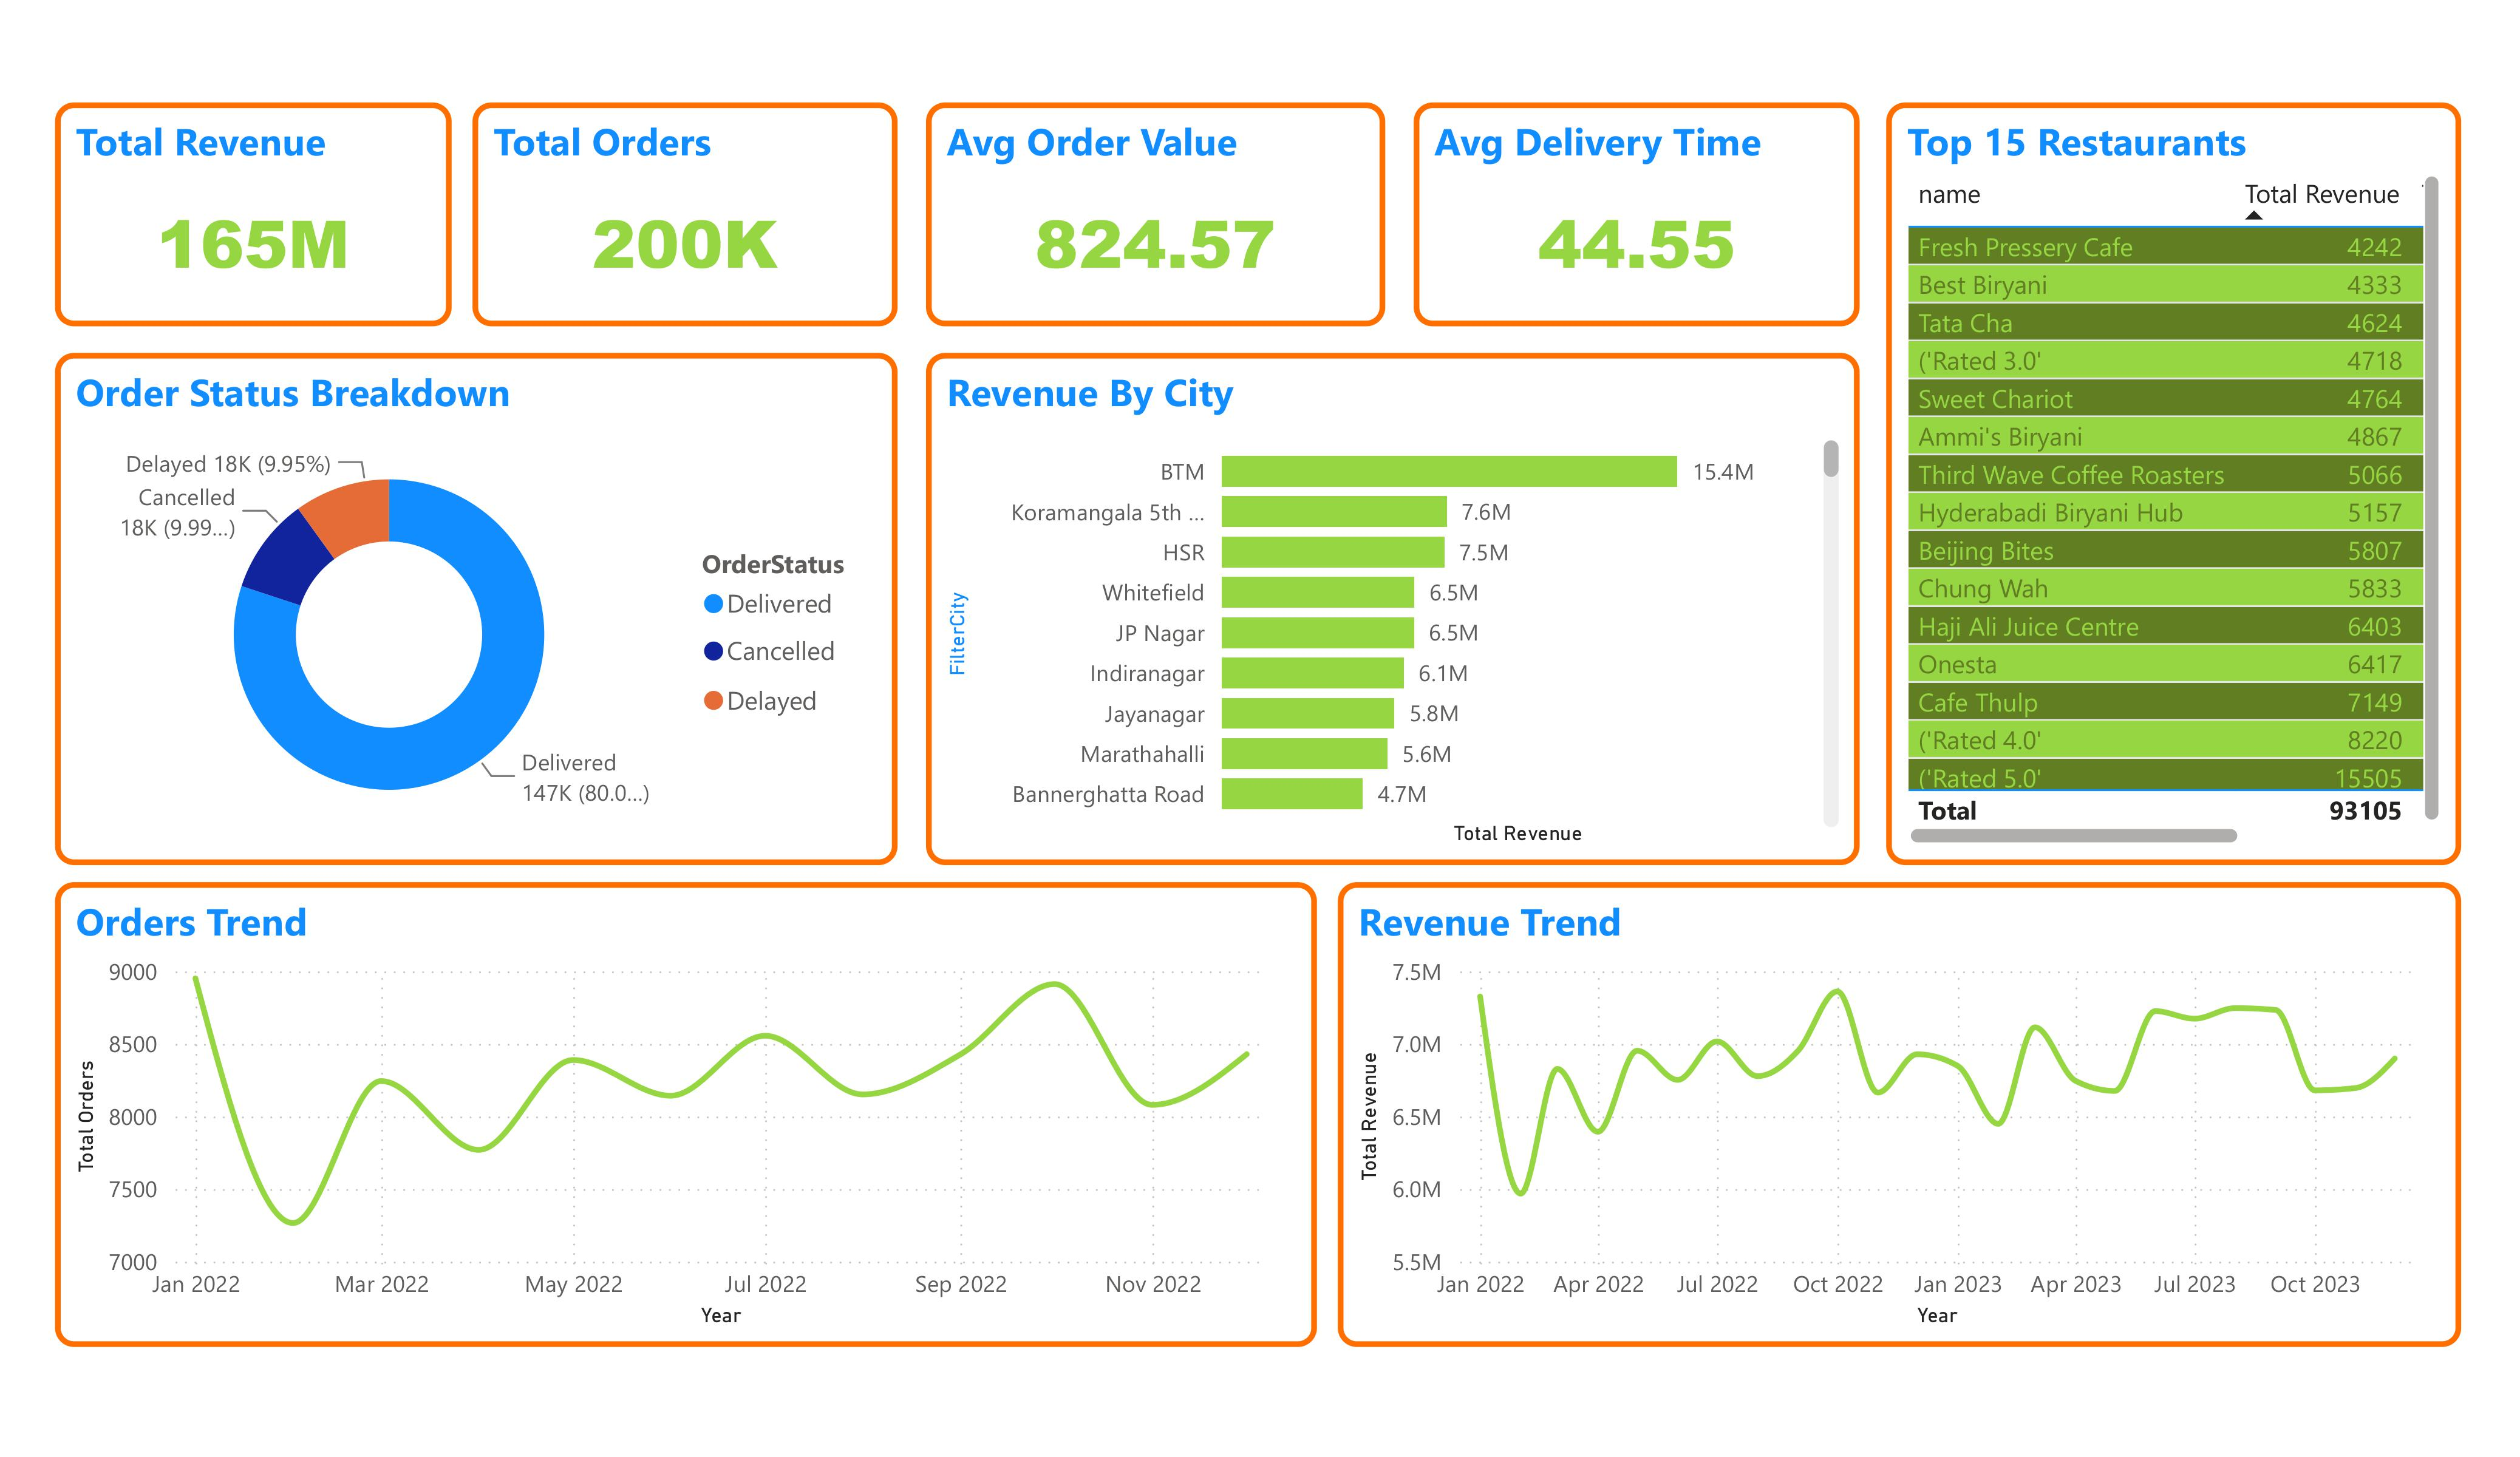

Layout of this report page (visuals, bound fields, positions):
{"tool":"powerbi","page":{"name":"Executive Overview","canvas":[1280,720],"ordinal":0},"visuals":[{"type":"cardVisual","title":"Total Orders","fields":{"Data":["Orders.Total Orders"]},"box":[225,30.4,224.3,117.1],"z":0},{"type":"cardVisual","title":"Total Revenue","fields":{"Data":["Orders.Total Revenue"]},"box":[5,30.4,208.6,117.1],"z":1000},{"type":"cardVisual","title":"Avg Order Value","fields":{"Data":["Orders.Avg Order Value"]},"box":[463.6,30.4,242.9,117.1],"z":2000},{"type":"cardVisual","title":"Avg Delivery Time","fields":{"Data":["Orders.Avg Delivery Time"]},"box":[720.7,30.4,235.7,117.1],"z":3000},{"type":"lineChart","title":"Revenue Trend","fields":{"Y":["Orders.Total Revenue"],"Category":["Customers.SignupDate.Variation.Date Hierarchy.Year","Customers.SignupDate.Variation.Date Hierarchy.Month"]},"box":[681.2,441.2,591.2,245],"z":4000},{"type":"lineChart","title":"Orders Trend","fields":{"Category":["Customers.SignupDate.Variation.Date Hierarchy.Year","Customers.SignupDate.Variation.Date Hierarchy.Month"],"Y":["Orders.Total Orders"]},"box":[5.4,441.4,664.3,244.3],"z":5000},{"type":"barChart","title":"Revenue By City","fields":{"Category":["Customers.FilterCity"],"Y":["Orders.Total Revenue"]},"box":[463.6,161.8,492.9,270],"z":6000},{"type":"donutChart","title":"Order Status Breakdown","fields":{"Category":["Orders.OrderStatus"],"Y":["Orders.Total Orders"]},"box":[5,161.8,444.3,270],"z":7000},{"type":"tableEx","title":"Top 15 Restaurants","fields":{"Values":["Restaurants.name","Orders.Total Revenue","Orders.Total Orders","Orders.Avg Rating"]},"box":[969.7,30.4,302.9,401.4],"z":8000}]}

Visuals, with their boxes on the page's 1280x720 design canvas (x1, y1, x2, y2). These are canvas units, not pixel positions in the 2520x1457 screenshot, which may show the page scaled, cropped or inside an application window:
"Total Orders" cardVisual: bbox=(225, 30, 449, 148)
"Total Revenue" cardVisual: bbox=(5, 30, 214, 148)
"Avg Order Value" cardVisual: bbox=(464, 30, 706, 148)
"Avg Delivery Time" cardVisual: bbox=(721, 30, 956, 148)
"Revenue Trend" lineChart: bbox=(681, 441, 1272, 686)
"Orders Trend" lineChart: bbox=(5, 441, 670, 686)
"Revenue By City" barChart: bbox=(464, 162, 956, 432)
"Order Status Breakdown" donutChart: bbox=(5, 162, 449, 432)
"Top 15 Restaurants" tableEx: bbox=(970, 30, 1273, 432)
